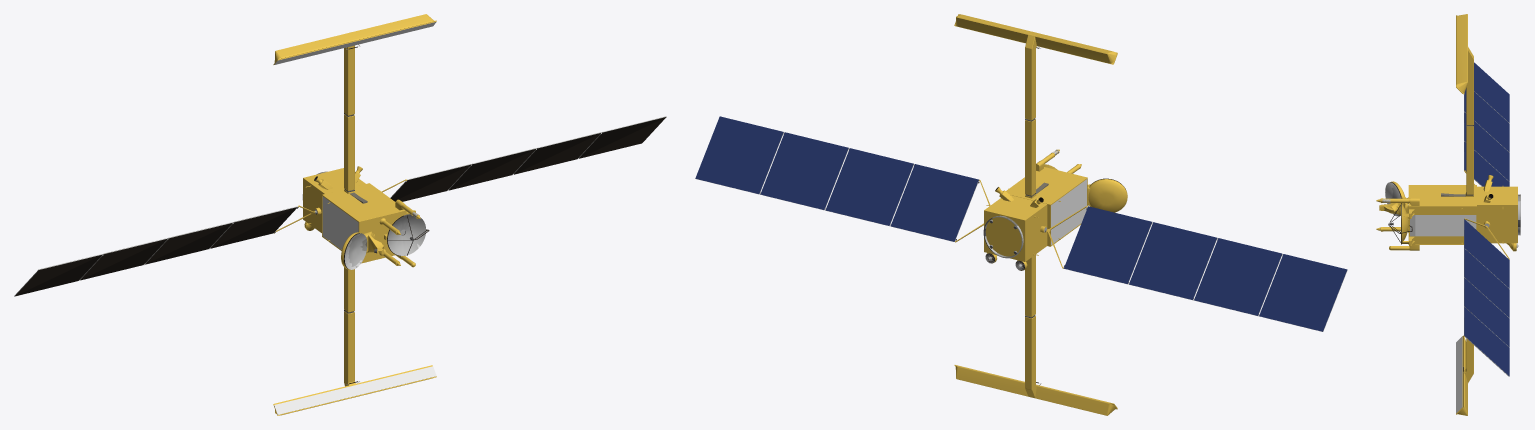
Rendered from swot.glb.
The picture shows the model from 3 angles, left to right: view 1: azimuth 30°, elevation 25°; view 2: azimuth 150°, elevation 25°; view 3: azimuth 270°, elevation 25°; orthographic projection. The views are drawn at different scales.
Visible parts, largest first — view 1: body, foil; view 2: solar-panel, foil, body; view 3: solar-panel, foil, body.
Part boxes in pixels (bbox=[...]): body: bbox=[14, 22, 666, 414]; foil: bbox=[273, 14, 436, 415]; solar-panel: bbox=[695, 116, 1347, 331]; foil: bbox=[954, 14, 1127, 415]; body: bbox=[695, 47, 1347, 385]; solar-panel: bbox=[1464, 62, 1509, 376]; foil: bbox=[1376, 14, 1517, 415]; body: bbox=[1382, 91, 1520, 413].
Size of the model in its own units: 19.19 by 10.6 by 4.15.
